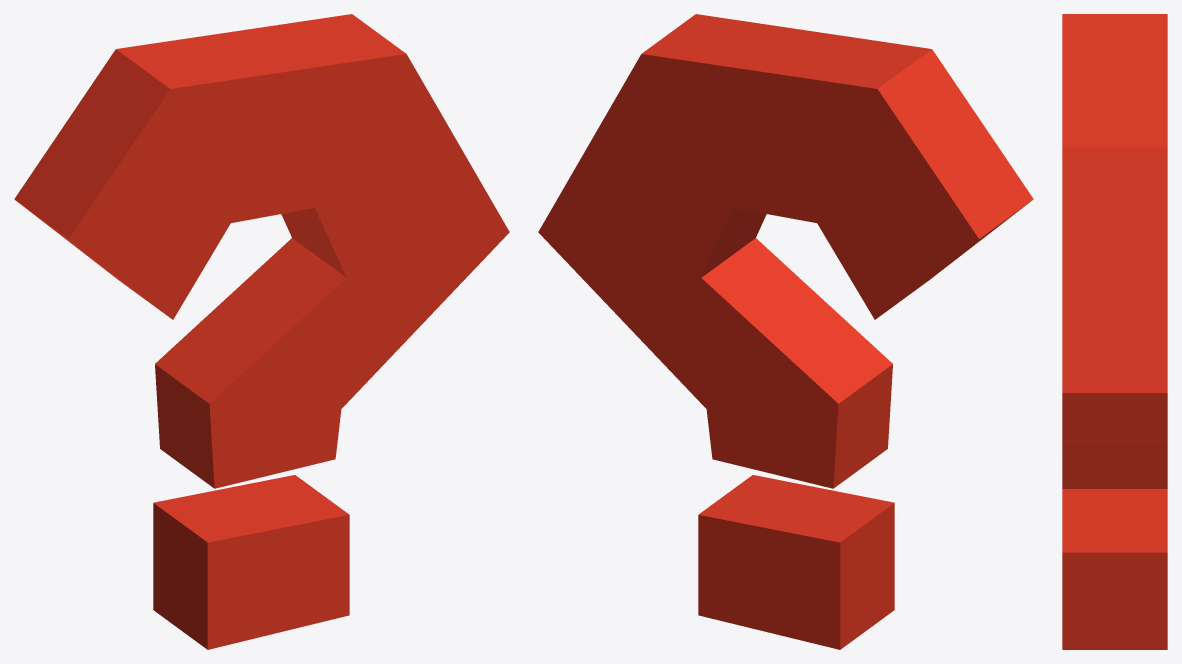
Rendered from Icon_Symbol_QuestionMark_02.fbx.
3 views of the same model, side by side, from view 1: azimuth 30°, elevation 25°; view 2: azimuth 150°, elevation 25°; view 3: azimuth 270°, elevation 25° (orthographic). The views are drawn at different scales.
Visible parts, largest first — view 1: Icon_Symbol_QuestionMark_02; view 2: Icon_Symbol_QuestionMark_02; view 3: Icon_Symbol_QuestionMark_02.
Boxes of the visible parts, bbox=[...] form: Icon_Symbol_QuestionMark_02: bbox=[14, 14, 509, 649]; Icon_Symbol_QuestionMark_02: bbox=[538, 14, 1033, 649]; Icon_Symbol_QuestionMark_02: bbox=[1062, 14, 1167, 649].
Bounding box in the file's own units: 56.31 × 69.54 × 12.06.
